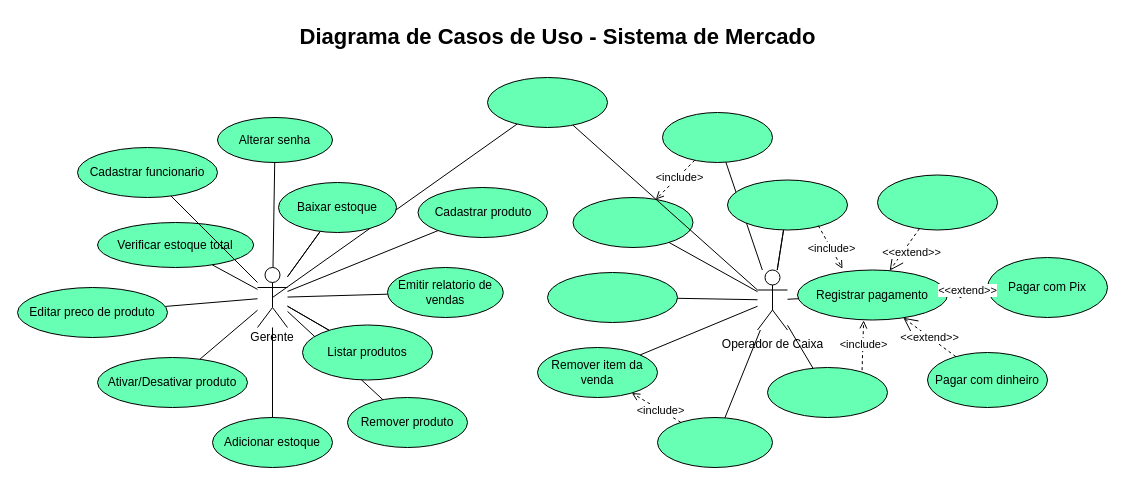
Some shapes in this 1125 by 485 pixel diagram are drawn without their labels. The shapes that lost their labels are listed below. From the top down, each one's box as (x1, y1, x2, y2) in pixels, then its label:
(486, 76, 608, 128): Fazer login
(662, 112, 772, 162): Registrar item na venda
(572, 196, 693, 248): Iniciar venda
(726, 179, 848, 230): Finalizar venda
(876, 174, 998, 230): Pagar com cartao
(546, 272, 678, 322): Aplicar desconto
(766, 366, 888, 418): Emitir recibo
(656, 416, 772, 468): Alterar quantidade de item
